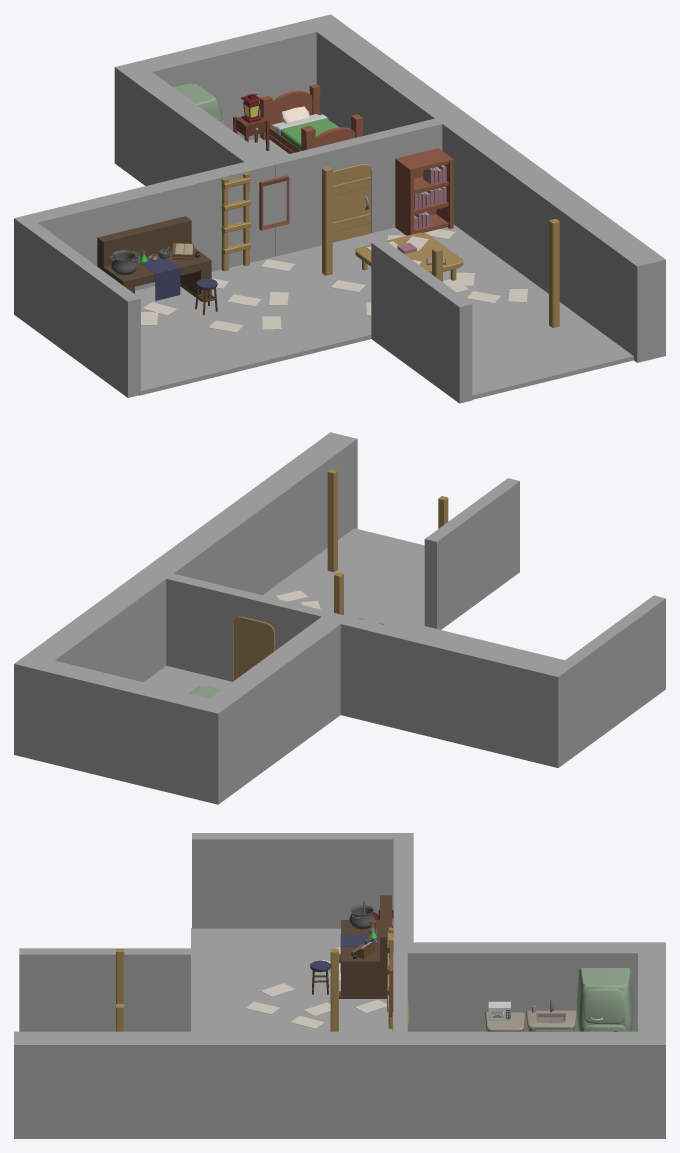
The model's file is Scruffles UV.fbx.
3 renders of one model, top to bottom at view 1: azimuth 30°, elevation 25°; view 2: azimuth 150°, elevation 25°; view 3: azimuth 270°, elevation 25°, orthographic. The views are drawn at different scales.
Parts seen in each view (by area): view 1: pCube4, polySurface43, pCube3, pCube46, polySurface1, pasted__polySurface4, pasted__pCube17, pCube51, pCube53, pasted__pCube53, pCube18, pCube41 (+4 smaller); view 2: pCube4, polySurface43, pCube3, pCube46, pCube51, pCube42; view 3: pCube4, polySurface43, pCube3, pasted__polySurface12, polySurface1, pCube46, pasted__pCylinder41, pasted__pasted__pCube15, pCube41, polySurface31, pCube43.
Part boxes in pixels (x1=…): pCube4: x1=14, y1=14, x2=665, y2=397; polySurface43: x1=135, y1=137, x2=633, y2=399; pCube3: x1=371, y1=239, x2=472, y2=403; pCube46: x1=268, y1=118, x2=443, y2=256; polySurface1: x1=97, y1=216, x2=212, y2=301; pasted__polySurface4: x1=260, y1=84, x2=362, y2=153; pasted__pCube17: x1=395, y1=148, x2=453, y2=235; pCube51: x1=332, y1=164, x2=370, y2=242; pCube53: x1=221, y1=172, x2=250, y2=271; pasted__pCube53: x1=259, y1=175, x2=289, y2=230; pCube18: x1=355, y1=232, x2=463, y2=280; pCube41: x1=322, y1=166, x2=332, y2=275; pCube4: x1=14, y1=432, x2=665, y2=804; polySurface43: x1=144, y1=528, x2=564, y2=693; pCube3: x1=424, y1=478, x2=519, y2=629; pCube46: x1=166, y1=573, x2=328, y2=681; pCube51: x1=233, y1=616, x2=275, y2=680; pCube42: x1=327, y1=469, x2=337, y2=572; pCube4: x1=14, y1=833, x2=665, y2=1138; polySurface43: x1=191, y1=928, x2=392, y2=1031; pCube3: x1=19, y1=948, x2=190, y2=1031; pasted__polySurface12: x1=577, y1=968, x2=633, y2=1031; polySurface1: x1=339, y1=895, x2=391, y2=998; pCube46: x1=393, y1=952, x2=407, y2=1031; pasted__pCylinder41: x1=526, y1=1000, x2=576, y2=1031; pasted__pasted__pCube15: x1=485, y1=1001, x2=525, y2=1031; pCube41: x1=330, y1=948, x2=338, y2=1031; polySurface31: x1=349, y1=905, x2=375, y2=929; pCube43: x1=116, y1=948, x2=124, y2=1004.
Size of the model in its own units: 16.98 by 4.4 by 22.06.
